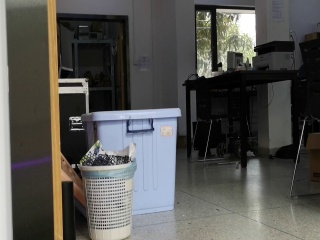room: (9, 2, 314, 240)
